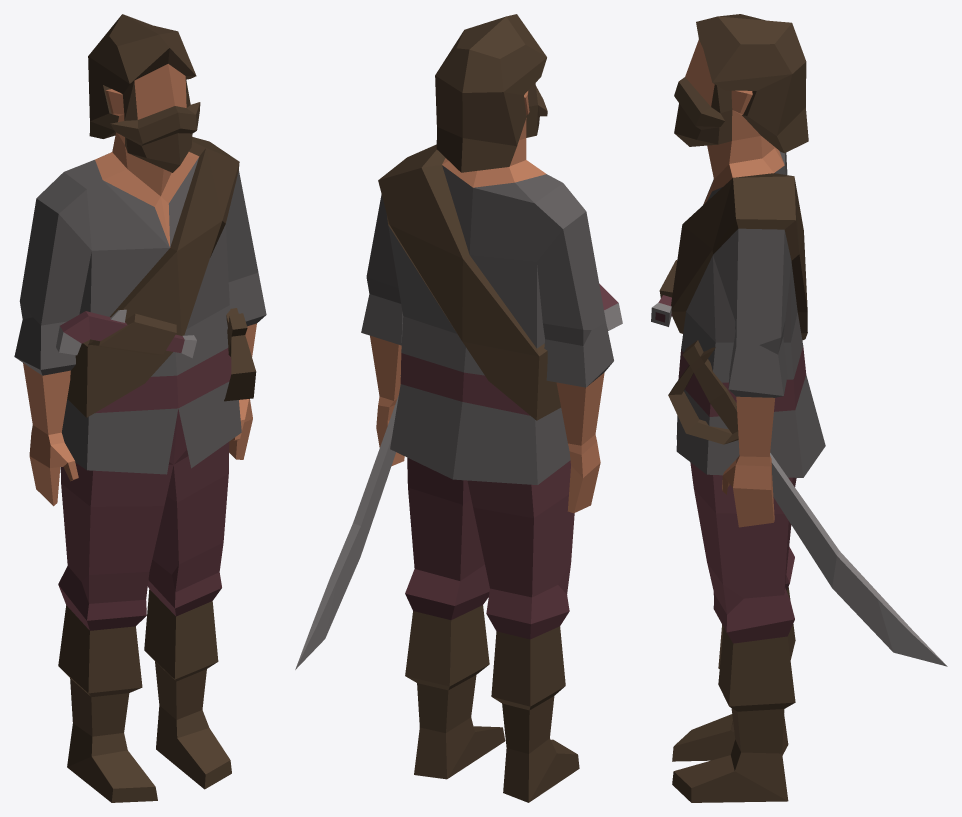
The model's file is man-pirate.fbx.
3 renders of one model, left to right at view 1: azimuth 30°, elevation 25°; view 2: azimuth 150°, elevation 25°; view 3: azimuth 270°, elevation 25°, orthographic.
Parts seen in each view (by area): view 1: man-pirate; view 2: man-pirate; view 3: man-pirate.
Boxes of the visible parts, <box> form: man-pirate: <box>14,14,266,802</box>; man-pirate: <box>295,14,622,802</box>; man-pirate: <box>651,14,947,802</box>.
Bounding box in the file's own units: 0.5836 × 1.84 × 0.6532.
